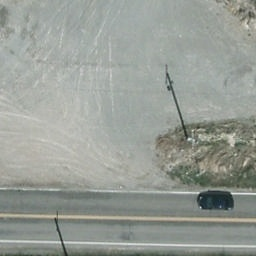car: (196, 192, 235, 211)
